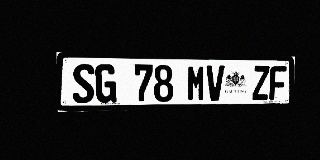7: (133, 64, 153, 102)
8: (154, 65, 173, 102)
F: (269, 66, 286, 100)
G: (95, 64, 116, 103)
M: (187, 65, 206, 101)
S: (72, 64, 95, 103)
V: (206, 65, 224, 101)
Z: (252, 66, 270, 100)
